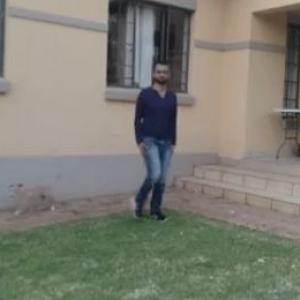follow: (125, 62, 176, 220)
